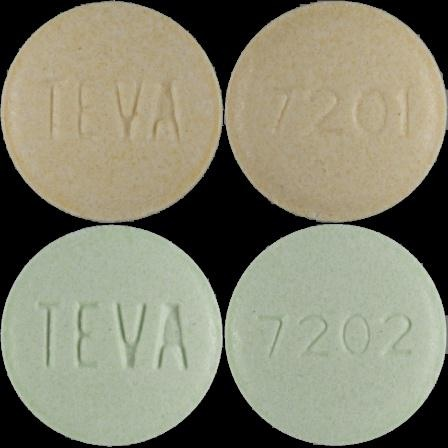54868-5577: (0, 0, 224, 224)
